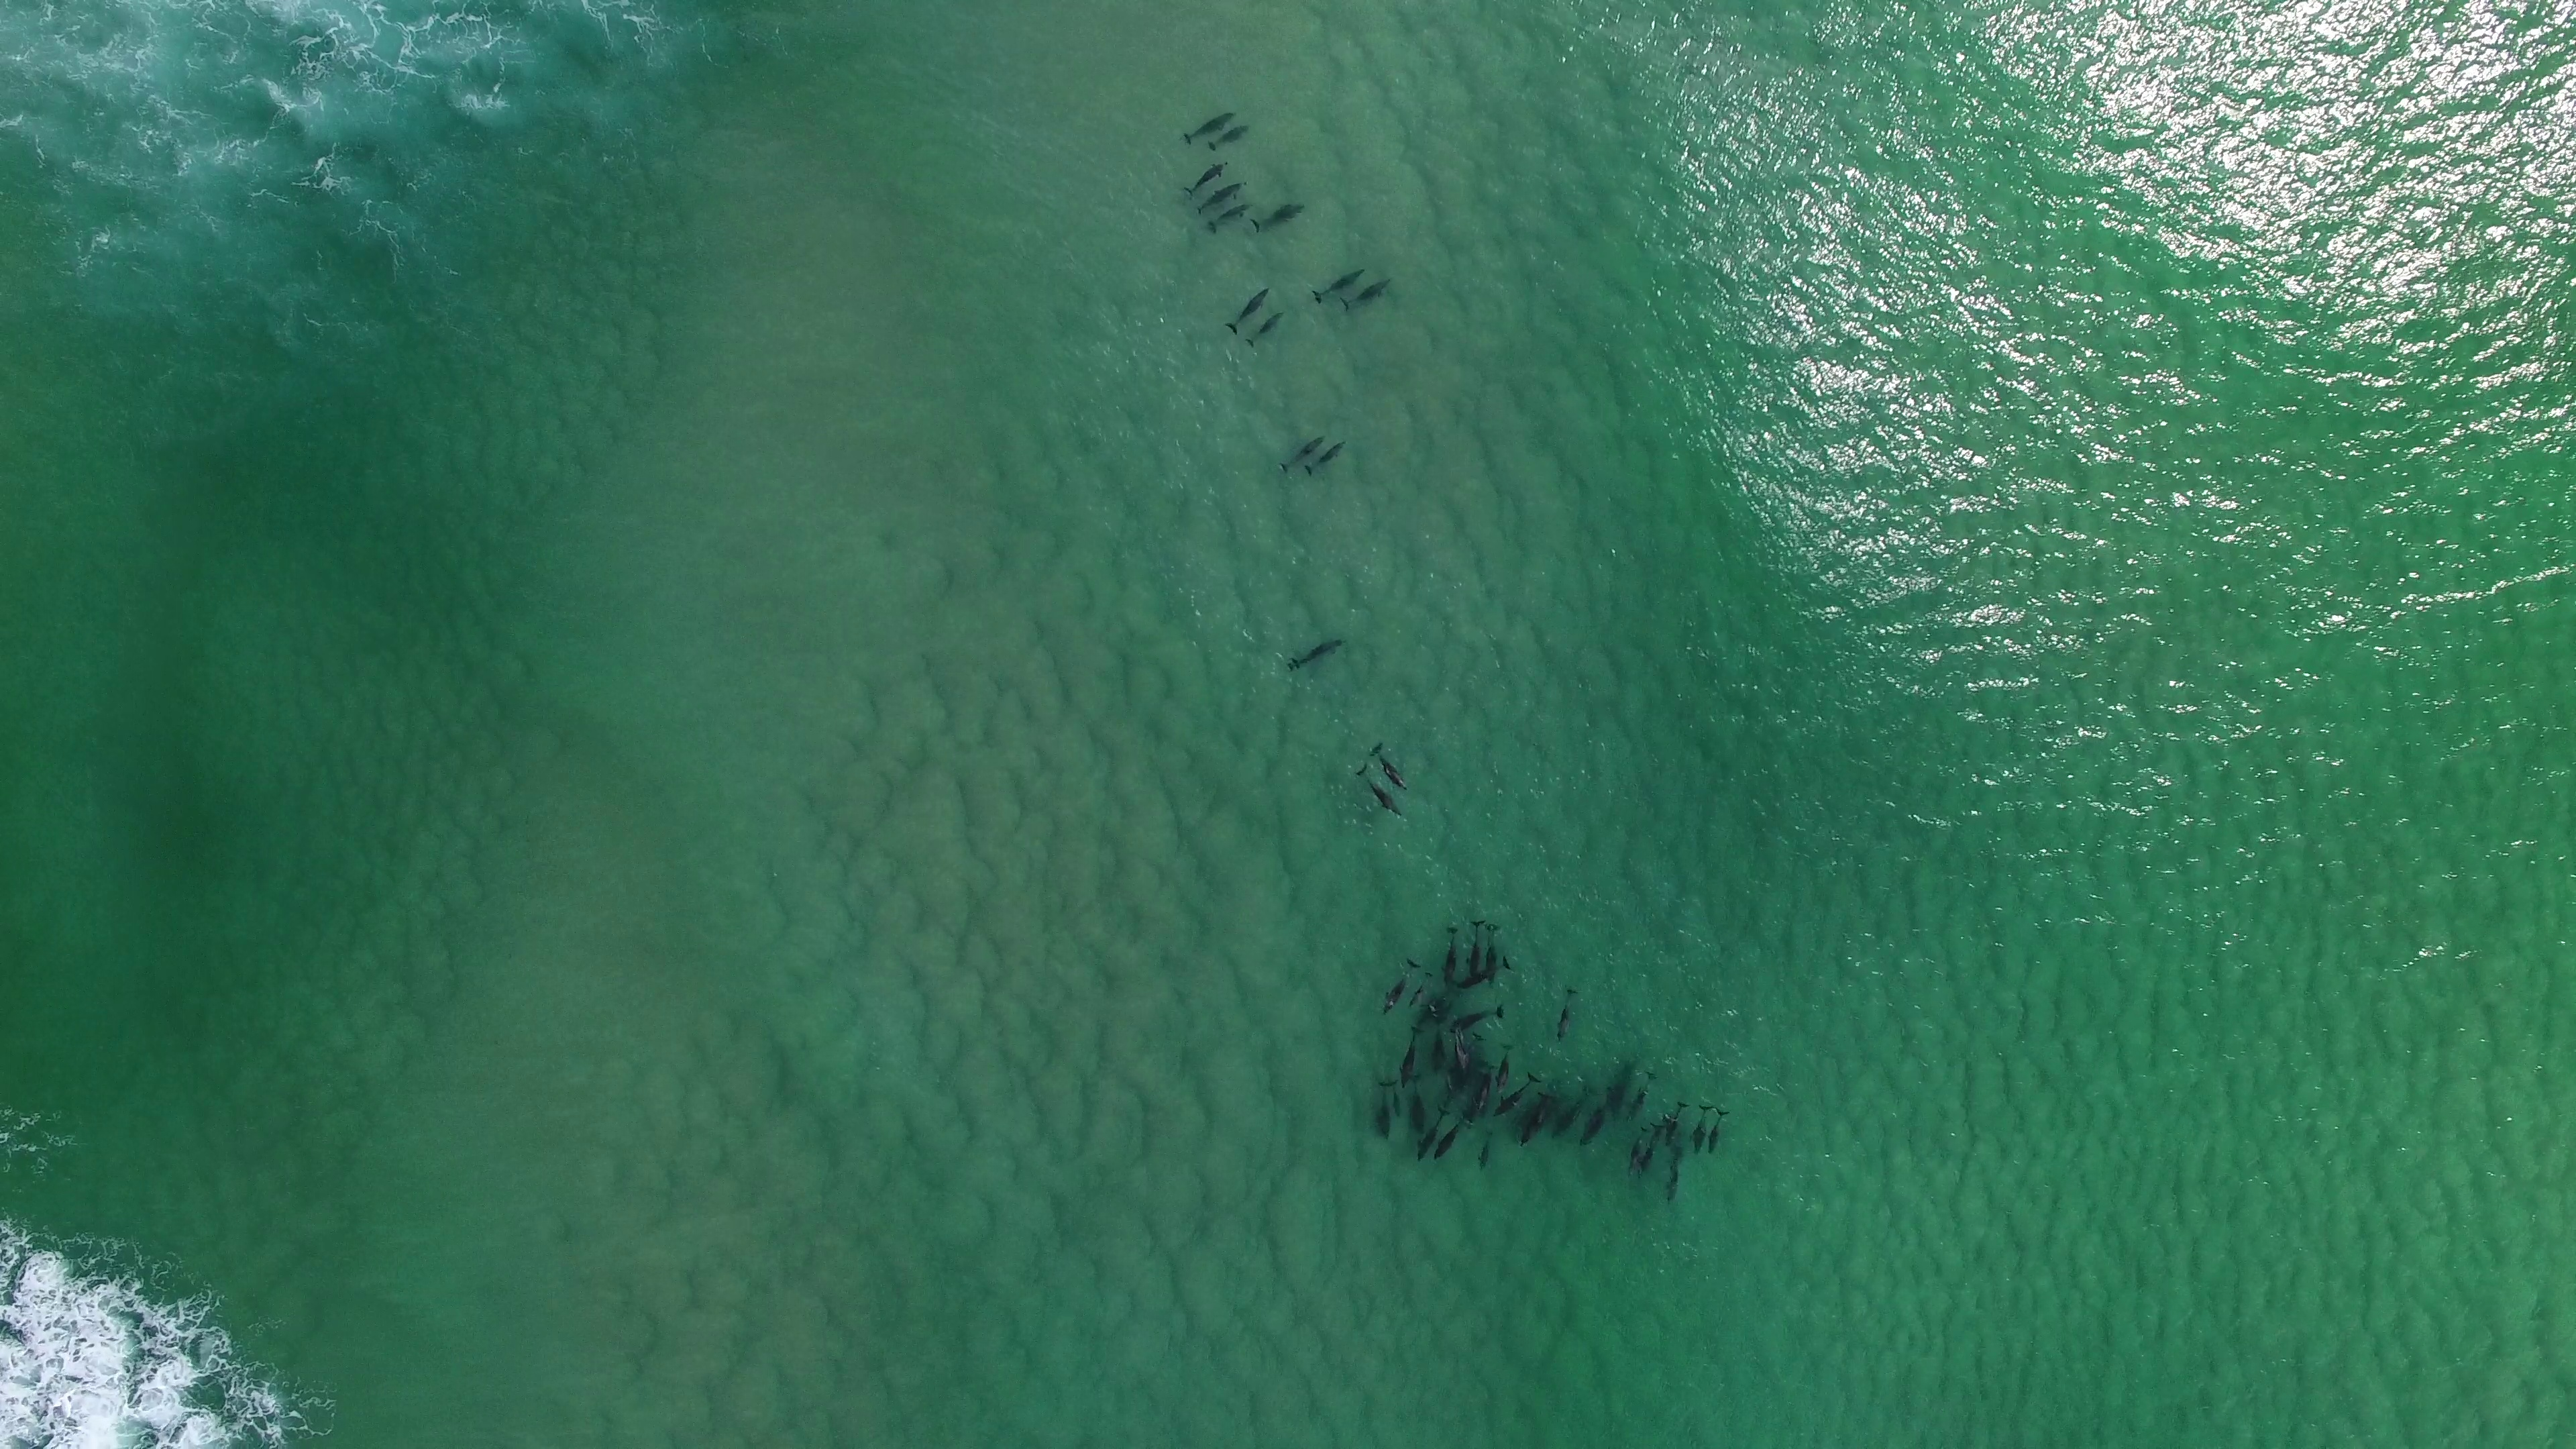dolphin: (1221, 283, 1276, 336), (1357, 764, 1405, 819), (1284, 633, 1348, 672), (1414, 1104, 1453, 1166), (1380, 957, 1421, 1014), (1311, 265, 1369, 304), (1493, 1070, 1541, 1116), (1182, 108, 1238, 145), (1276, 433, 1327, 474), (1553, 1088, 1594, 1139), (1580, 1092, 1615, 1150), (1454, 954, 1509, 991), (1369, 740, 1407, 793), (1194, 179, 1249, 214), (1343, 274, 1394, 311), (1302, 439, 1353, 476), (1251, 202, 1307, 235), (1626, 1069, 1660, 1125), (1522, 1090, 1555, 1146), (1242, 308, 1288, 349), (1185, 157, 1231, 196), (1433, 1116, 1472, 1162), (1660, 1146, 1690, 1201), (1205, 202, 1254, 234), (1399, 1024, 1428, 1079), (1438, 925, 1461, 989), (1640, 1120, 1665, 1178), (1479, 922, 1502, 984), (1453, 1001, 1506, 1028), (1555, 985, 1580, 1040), (1373, 1077, 1392, 1143), (1624, 1123, 1647, 1178), (1463, 920, 1483, 982), (1688, 1104, 1713, 1152), (1451, 1024, 1472, 1079), (1407, 970, 1435, 1010), (1665, 1100, 1690, 1146), (1493, 1042, 1516, 1092), (1407, 1072, 1426, 1131), (1706, 1108, 1729, 1155), (1474, 1065, 1493, 1116), (1210, 126, 1249, 150), (1476, 1131, 1497, 1173), (1430, 1019, 1445, 1074), (1387, 1079, 1401, 1122)
